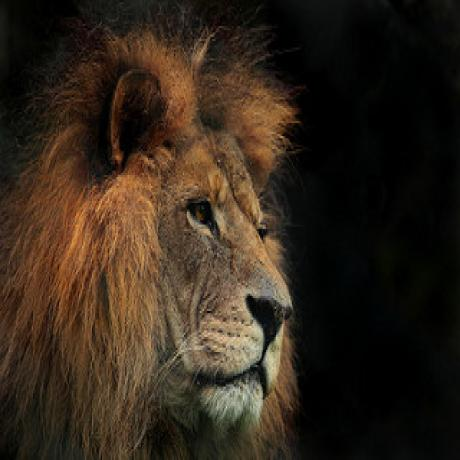Lion: (0, 14, 305, 460)
